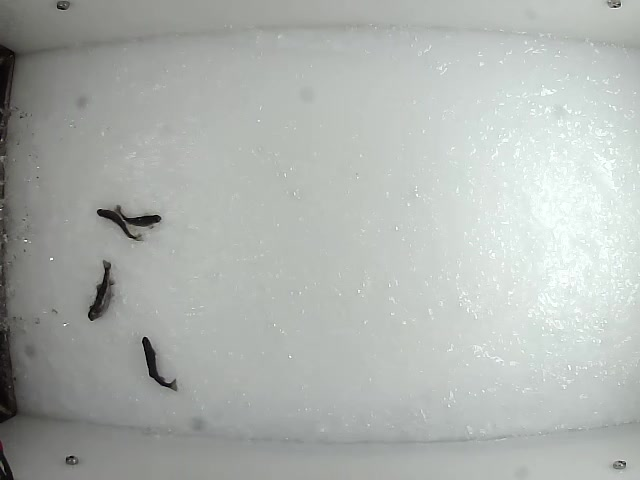fish: (141, 336, 179, 394), (84, 258, 115, 323), (96, 206, 144, 244), (115, 202, 164, 230)
